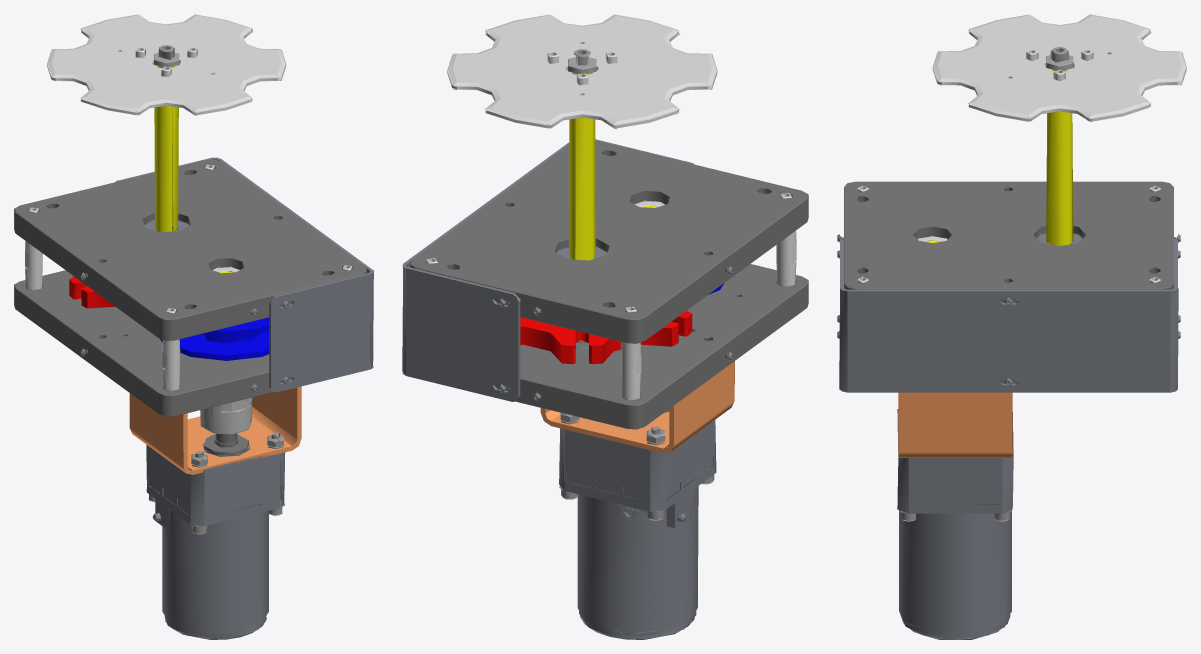
File: GenevaDisk.fbx
3 views of the same model, side by side, from view 1: azimuth 30°, elevation 25°; view 2: azimuth 150°, elevation 25°; view 3: azimuth 270°, elevation 25° (orthographic). The views are drawn at different scales.
Parts seen in each view (by area): view 1: geneva_disk_system.001, geneva_disk_system.003, geneva_disk_system.010, geneva_disk_system.007, geneva_disk_system.006, geneva_disk_system.004, geneva_disk_system.002, geneva_disk_system, geneva_disk_system.009, geneva_disk_system.005; view 2: geneva_disk_system.001, geneva_disk_system.003, geneva_disk_system.010, geneva_disk_system.007, geneva_disk_system.006, geneva_disk_system.005, geneva_disk_system.002, geneva_disk_system.009; view 3: geneva_disk_system.003, geneva_disk_system.001, geneva_disk_system.010, geneva_disk_system.007, geneva_disk_system.006, geneva_disk_system.009.
Boxes of the visible parts, <box> form: geneva_disk_system.001: <box>14,159,366,455</box>; geneva_disk_system.003: <box>80,157,373,639</box>; geneva_disk_system.010: <box>47,14,286,115</box>; geneva_disk_system.007: <box>129,386,301,474</box>; geneva_disk_system.006: <box>154,66,232,273</box>; geneva_disk_system.004: <box>160,317,269,360</box>; geneva_disk_system.002: <box>25,164,352,390</box>; geneva_disk_system: <box>200,397,252,434</box>; geneva_disk_system.009: <box>148,45,283,534</box>; geneva_disk_system.005: <box>69,276,115,308</box>; geneva_disk_system.001: <box>410,140,808,429</box>; geneva_disk_system.003: <box>402,139,733,639</box>; geneva_disk_system.010: <box>447,14,717,129</box>; geneva_disk_system.007: <box>540,336,734,453</box>; geneva_disk_system.006: <box>569,72,657,341</box>; geneva_disk_system.005: <box>520,310,692,364</box>; geneva_disk_system.002: <box>426,193,796,399</box>; geneva_disk_system.009: <box>560,49,714,520</box>; geneva_disk_system.003: <box>837,233,1180,639</box>; geneva_disk_system.001: <box>844,181,1173,383</box>; geneva_disk_system.010: <box>932,14,1186,122</box>; geneva_disk_system.007: <box>898,392,1012,457</box>; geneva_disk_system.006: <box>927,69,1073,245</box>; geneva_disk_system.009: <box>901,47,1069,521</box>.
Size of the model in its own units: 21.05 by 49.43 by 27.52.
